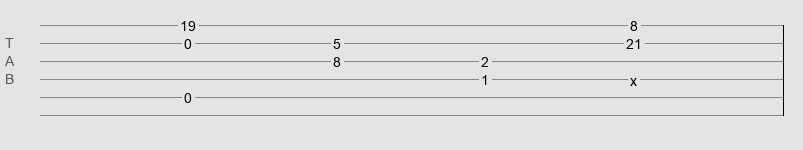0: (184, 90, 192, 100), (184, 36, 192, 46)
1: (481, 72, 489, 82)
19: (180, 18, 196, 28)
2: (481, 54, 489, 64)
21: (626, 36, 642, 46)
5: (333, 36, 341, 46)
8: (333, 54, 341, 64), (630, 18, 638, 28)
x: (630, 73, 637, 81)
